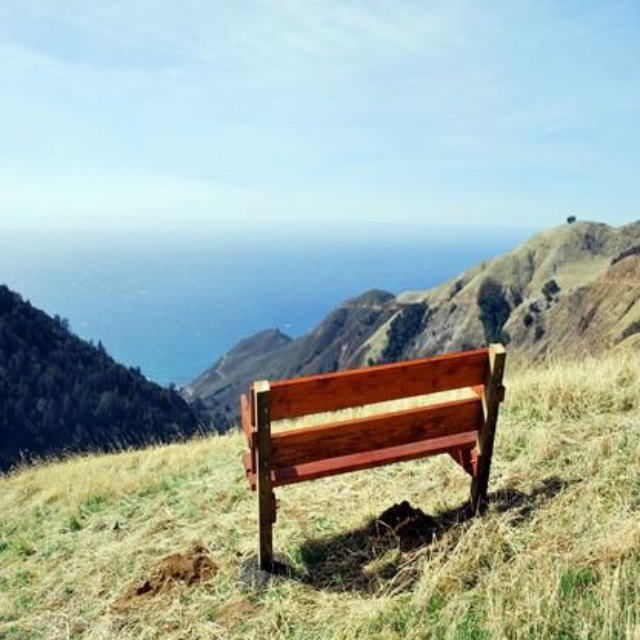obstacle: (222, 357, 532, 580)
